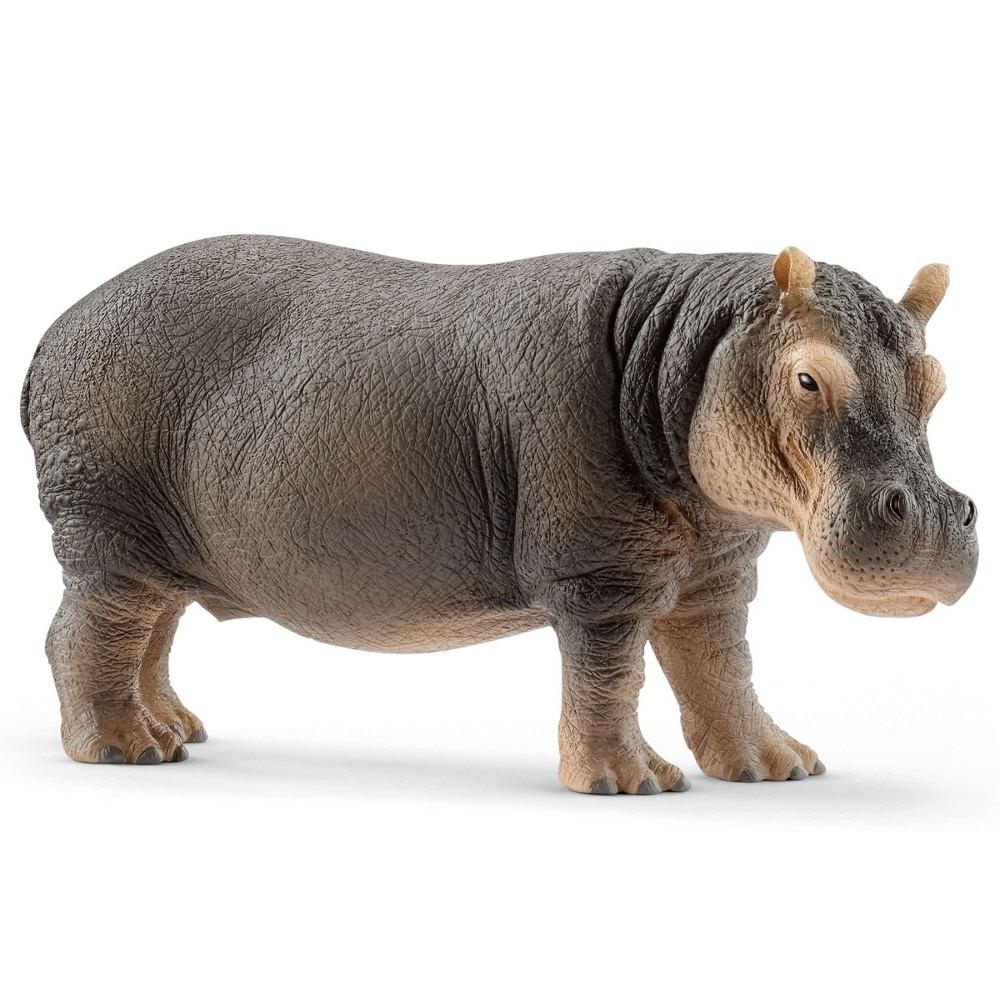Hippopotamus: (22, 237, 988, 798)
